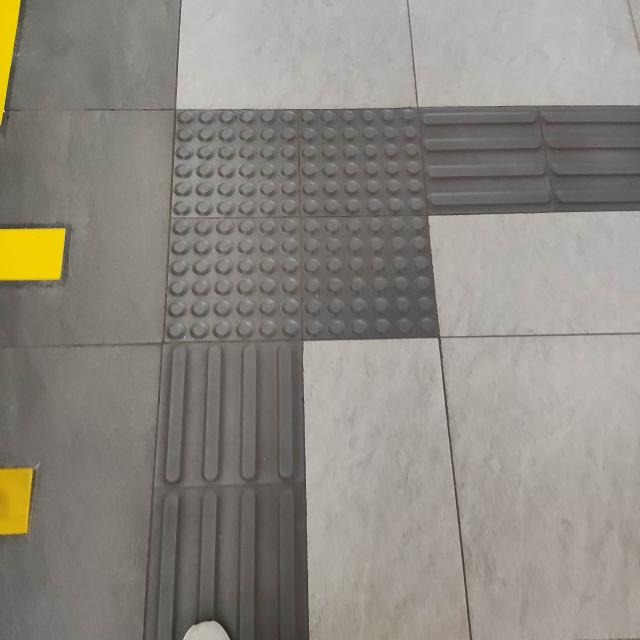kanan: (96, 72, 640, 444)
